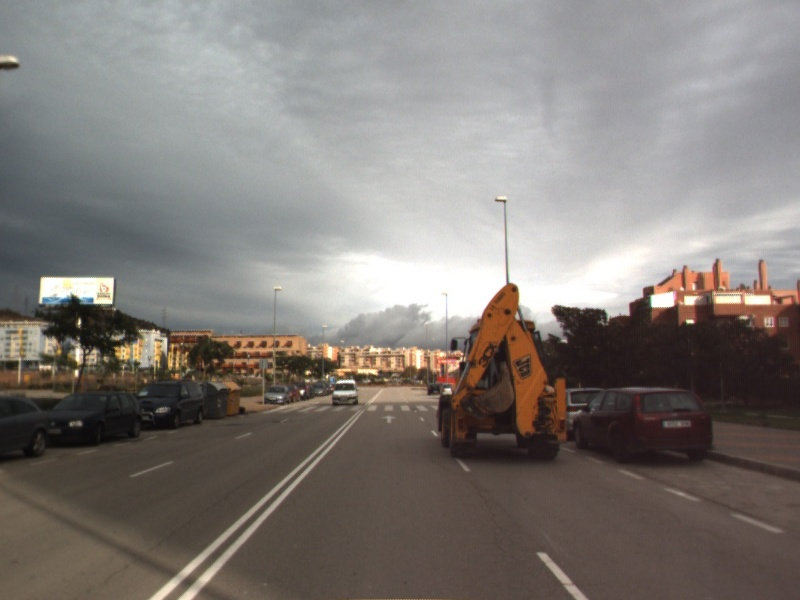STRAIGHT: (379, 413, 399, 425)
